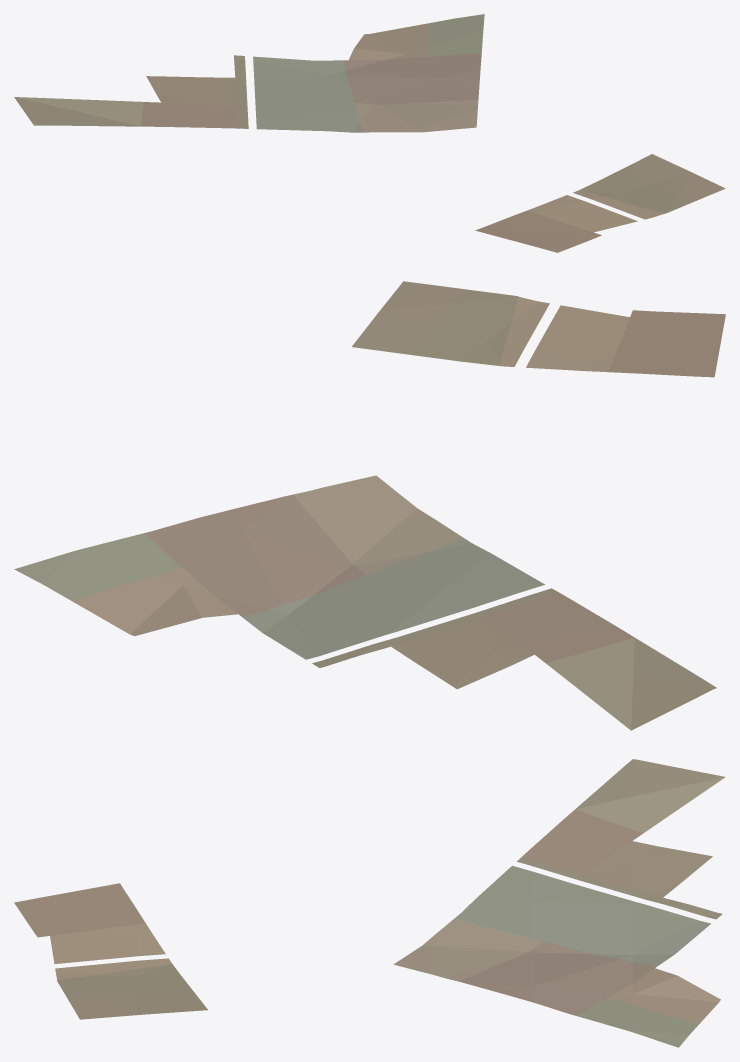
File: farm_-5_14_soil.glb
The picture shows the model from 3 angles, top to bottom: view 1: azimuth 30°, elevation 25°; view 2: azimuth 150°, elevation 25°; view 3: azimuth 270°, elevation 25°; orthographic projection. The views are drawn at different scales.
Parts seen in each view (by area): view 1: geometry_0; view 2: geometry_0; view 3: geometry_0.
Part boxes in pixels (x1,y1,x2,y2): geometry_0: (14, 14, 725, 252); geometry_0: (14, 281, 725, 730); geometry_0: (14, 759, 725, 1047).
Size of the model in its own units: 512 by 31.07 by 575.
